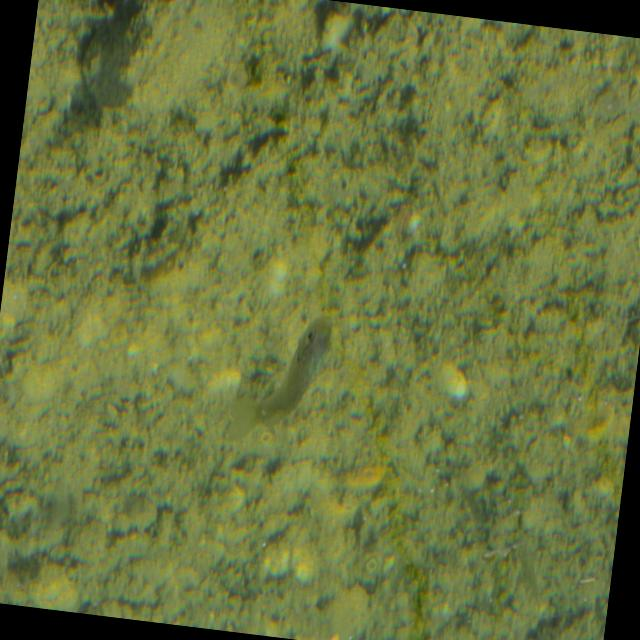Gunes Levregi: (219, 300, 337, 458)
